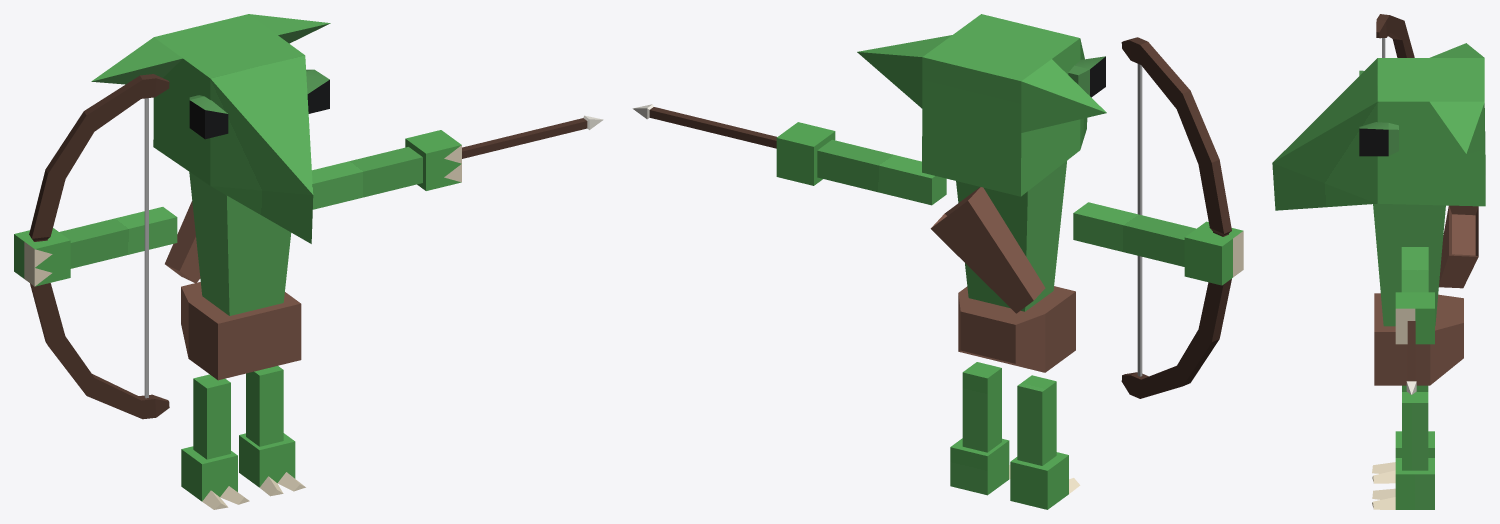
File: GoblinArcher.fbx
3 renders of one model, left to right at view 1: azimuth 30°, elevation 25°; view 2: azimuth 150°, elevation 25°; view 3: azimuth 270°, elevation 25°, orthographic. The views are drawn at different scales.
Visible parts, largest first — view 1: Head, Bow, Torso, Hip, Arm_L, Arm_R, Leg_R, Leg_L, Foot_R, Foot_L, Hand_R, Hand_L (+2 smaller); view 2: Head, Bow, Hip, Quiver, Torso, Arm_L, Arm_R, Leg_R, Leg_L, Hand_R, Foot_R, Foot_L (+2 smaller); view 3: Head, Torso, Hip, Quiver, Foot_L, Leg_L, Hand_L, Arm_L, Bow, Foot_R, Arrow.
Boxes of the visible parts, x1,y1,x2,y2 form: Head: [91, 14, 330, 243]; Bow: [29, 74, 169, 419]; Torso: [189, 172, 291, 315]; Hip: [181, 282, 301, 380]; Arm_L: [312, 147, 422, 209]; Arm_R: [59, 207, 177, 268]; Leg_R: [193, 374, 230, 459]; Leg_L: [246, 366, 283, 446]; Foot_R: [181, 446, 249, 509]; Foot_L: [239, 433, 305, 496]; Hand_R: [14, 228, 70, 286]; Hand_L: [405, 130, 461, 190]; Head: [857, 14, 1106, 196]; Bow: [1121, 37, 1231, 398]; Hip: [958, 286, 1075, 372]; Quiver: [930, 187, 1045, 313]; Torso: [956, 161, 1066, 311]; Arm_L: [817, 139, 946, 205]; Arm_R: [1073, 202, 1195, 266]; Leg_R: [1017, 375, 1056, 465]; Leg_L: [962, 362, 1001, 452]; Hand_R: [1184, 221, 1243, 285]; Foot_R: [1010, 452, 1080, 509]; Foot_L: [950, 438, 1010, 495]; Head: [1272, 43, 1485, 210]; Torso: [1373, 203, 1445, 326]; Hip: [1374, 293, 1463, 385]; Quiver: [1439, 205, 1478, 288]; Foot_L: [1372, 458, 1434, 509]; Leg_L: [1402, 392, 1428, 470]; Hand_L: [1395, 292, 1434, 344]; Arm_L: [1401, 247, 1428, 292]; Bow: [1376, 14, 1414, 57]; Foot_R: [1372, 431, 1434, 483]; Arrow: [1406, 321, 1416, 394].
Size of the model in its own units: 16.12 by 11.85 by 5.43.
